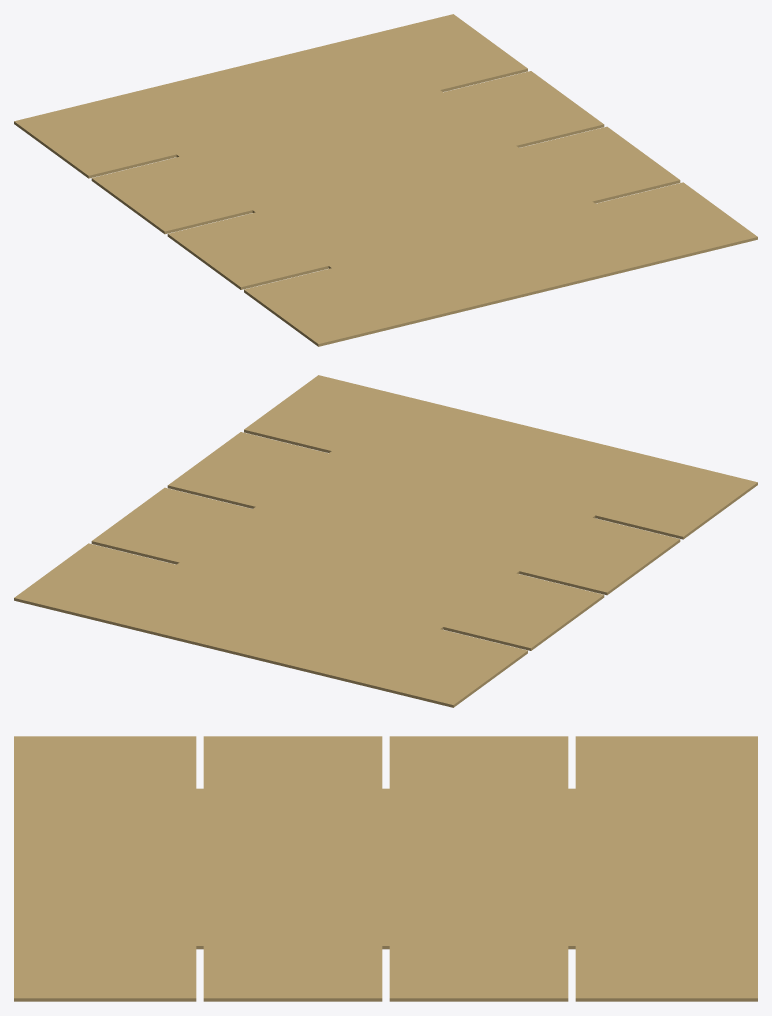
Rendered from paper.glb.
The picture shows the model from 3 angles, top to bottom: view 1: azimuth 30°, elevation 25°; view 2: azimuth 150°, elevation 25°; view 3: azimuth 270°, elevation 25°; orthographic projection. The views are drawn at different scales.
Parts seen in each view (by area): view 1: ActualCutSheet; view 2: ActualCutSheet; view 3: ActualCutSheet.
Boxes of the visible parts, <box> form: ActualCutSheet: <box>14,14,757,346</box>; ActualCutSheet: <box>14,375,757,707</box>; ActualCutSheet: <box>14,736,757,1001</box>.
Size of the model in its own units: 0.5 by 0.003 by 0.6.
